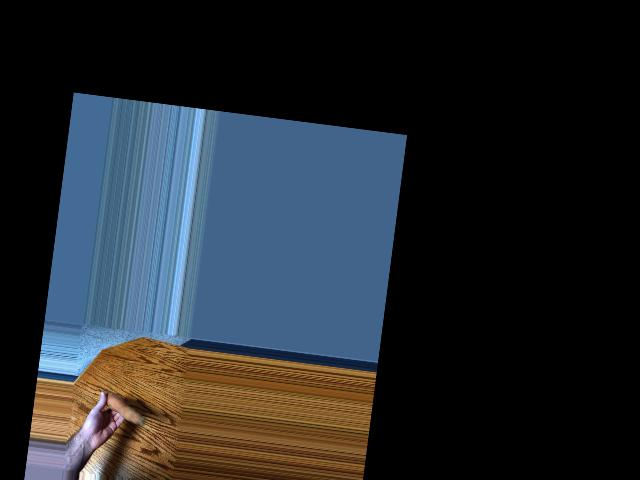sweet_potato: (94, 389, 150, 430)
